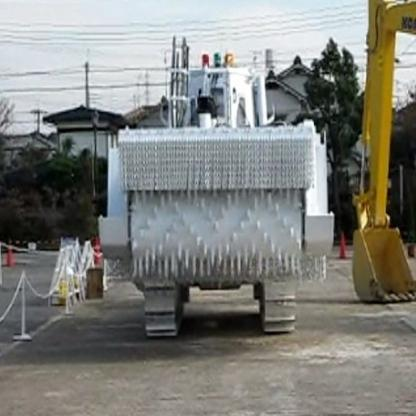excavator: (349, 5, 415, 323)
